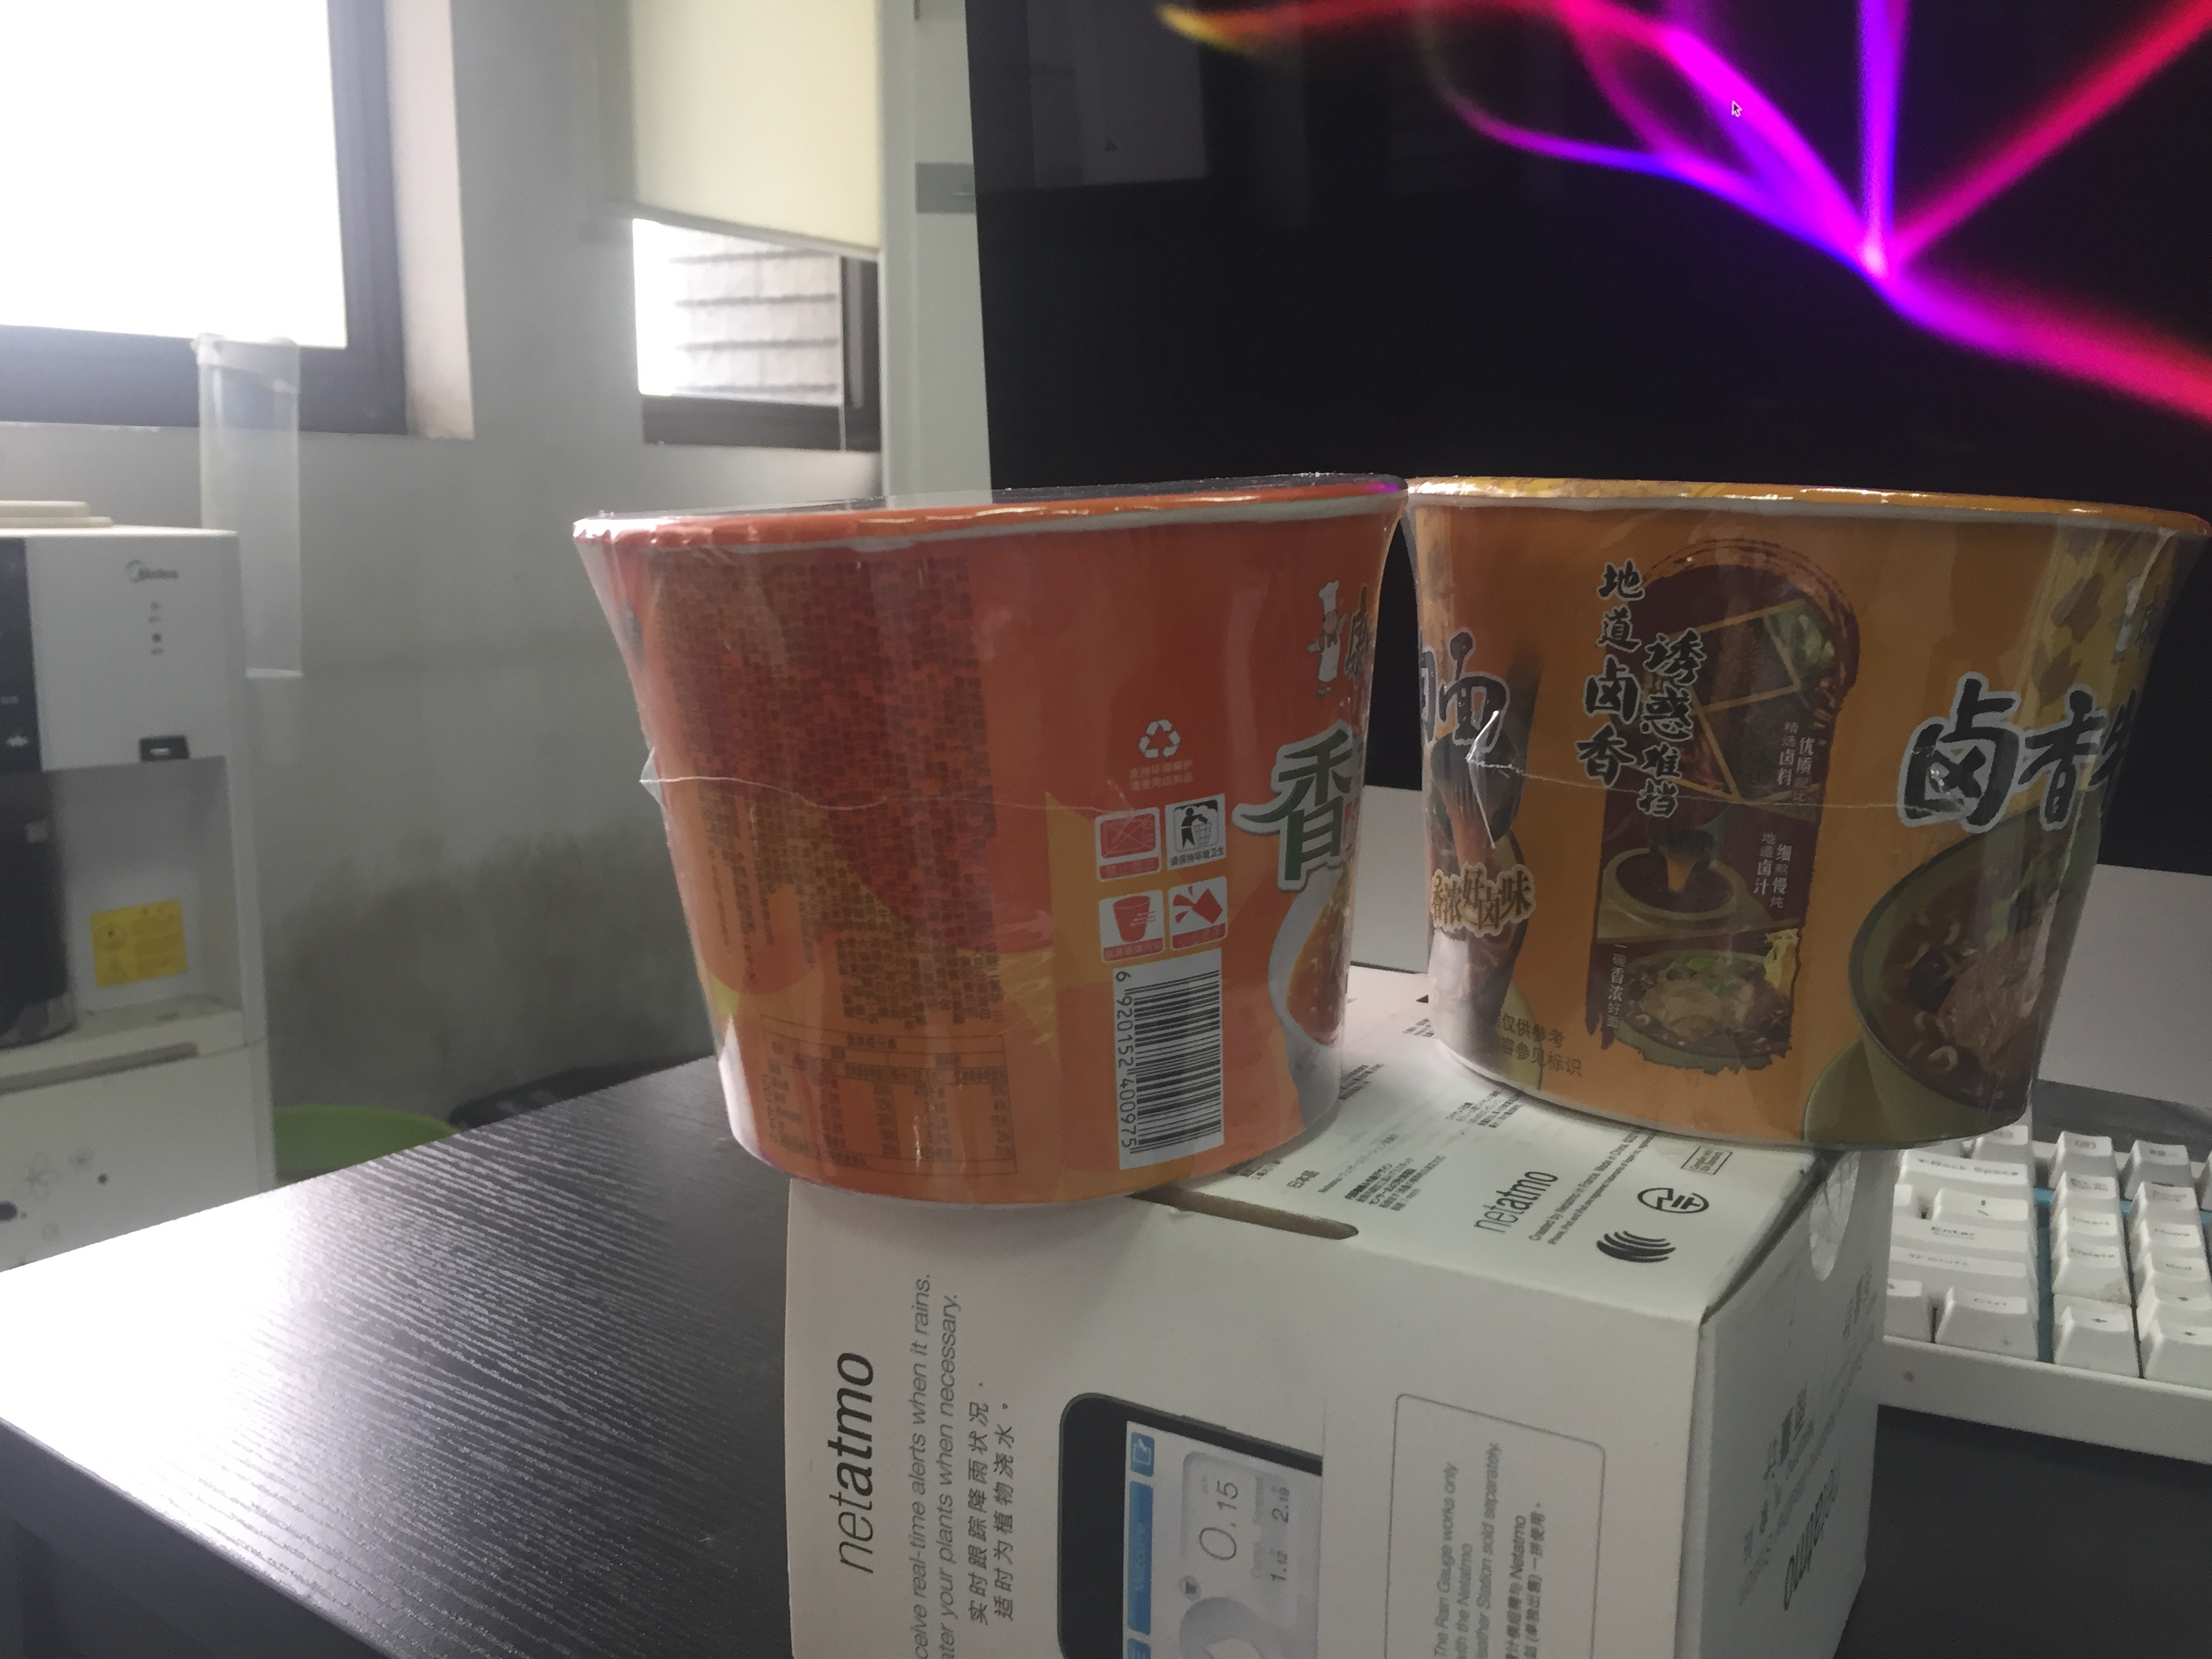luxiang: (1404, 471, 2212, 1154)
xiangla: (568, 476, 1407, 1211)
